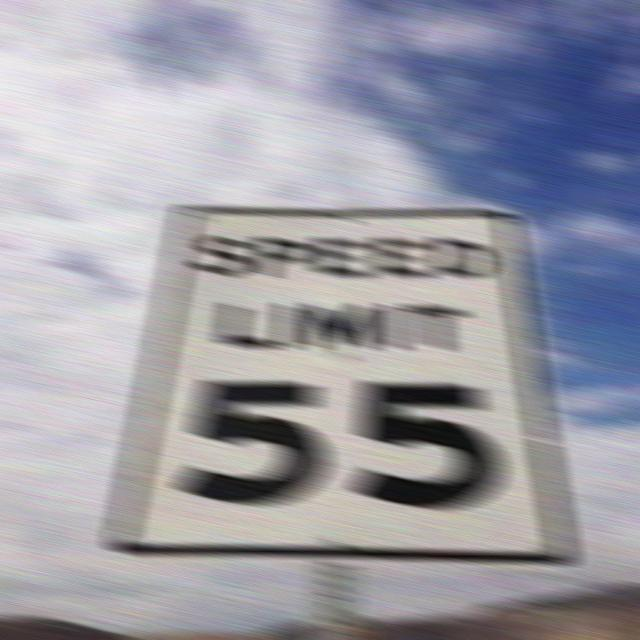speedLimit55: (97, 203, 602, 553)
